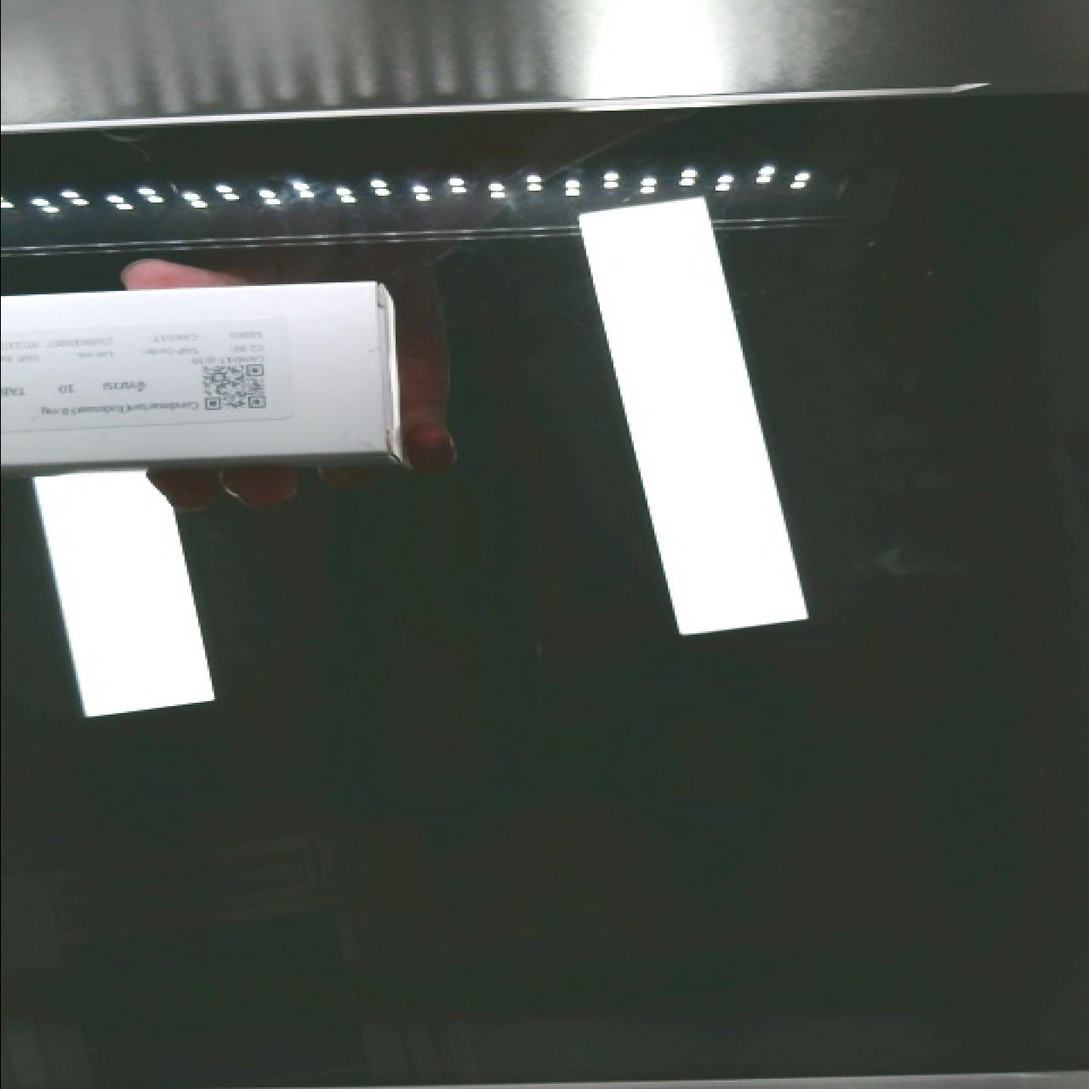qr_code: (183, 346, 289, 421)
